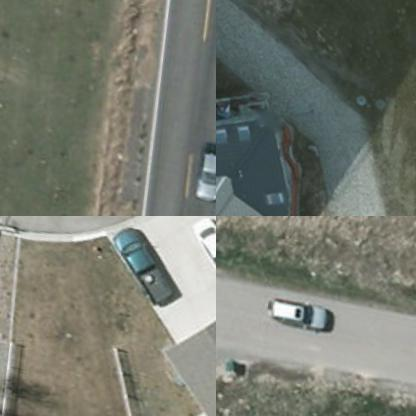car: (179, 216, 215, 282), (266, 293, 330, 330), (188, 145, 215, 203)
pickup: (101, 220, 188, 308)
